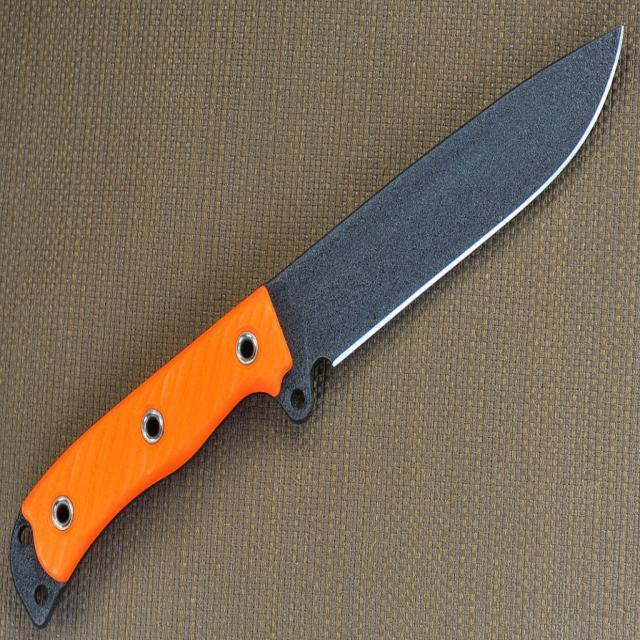Knife: (11, 28, 622, 626)
